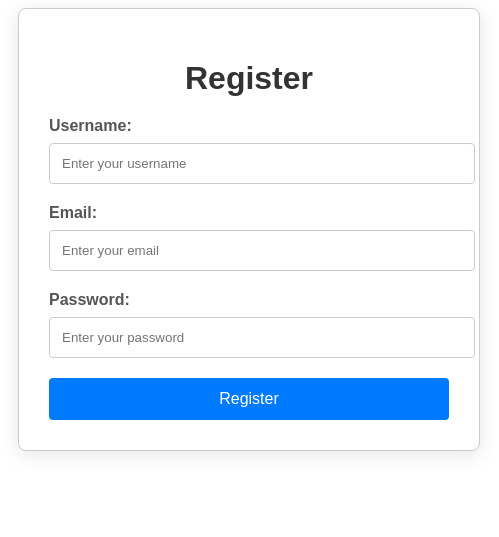
Test case: Registration Form › displays required validation messages for empty fields
This screenshot has width=499, height=537.
Click the submit button: (249, 399) [49, 378, 449, 420]
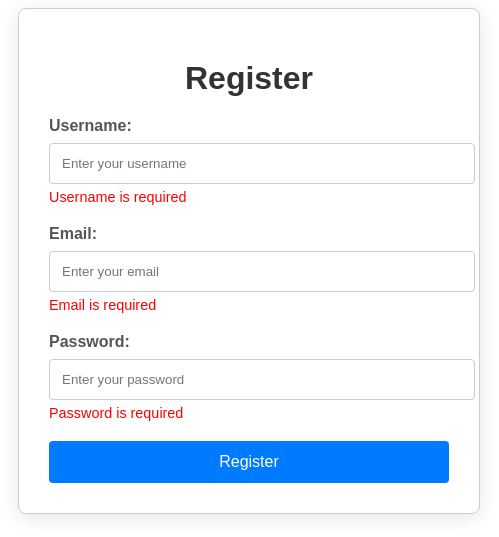
Expected: the text "Username is required" is shown, [49, 189, 187, 205]
Expected: the text "Email is required" is shown, [49, 297, 156, 313]
Expected: the text "Password is required" is shown, [49, 405, 183, 421]
